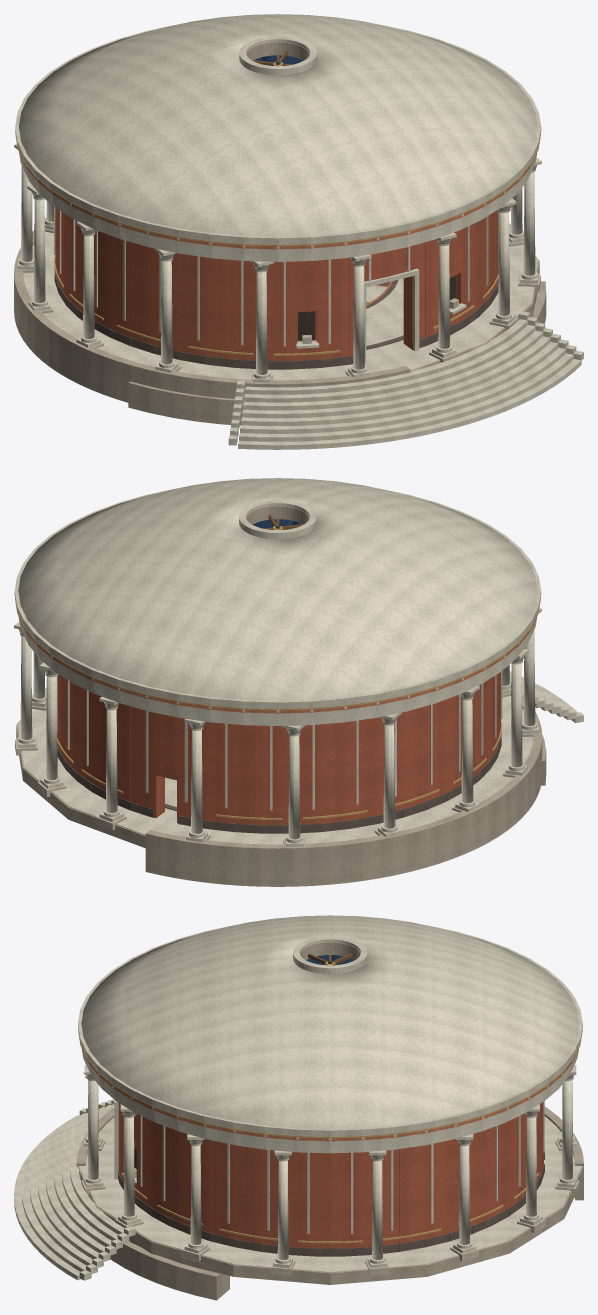
The model's file is coenatio.glb.
3 views of the same model, one above another, from view 1: azimuth 30°, elevation 25°; view 2: azimuth 150°, elevation 25°; view 3: azimuth 270°, elevation 25° (orthographic). The views are drawn at different scales.
Visible parts, largest first — view 1: FIXED_SHELL｜coenatio_warm_marble, STATIC｜coenatio_warm_marble, STATIC｜coenatio_red_plaster, STATIC｜coenatio_tuff, STATIC｜coenatio_dark_stone, STATIC｜coenatio_red_plaster_light, STATIC｜coenatio_bronze, STATIC｜coenatio_tuff_light, STATIC｜coenatio_ochre, STATIC｜coenatio_recess; view 2: FIXED_SHELL｜coenatio_warm_marble, STATIC｜coenatio_warm_marble, STATIC｜coenatio_red_plaster, STATIC｜coenatio_tuff, STATIC｜coenatio_dark_stone, STATIC｜coenatio_red_plaster_light, STATIC｜coenatio_bronze, STATIC｜coenatio_tuff_light, STATIC｜coenatio_ochre; view 3: FIXED_SHELL｜coenatio_warm_marble, STATIC｜coenatio_warm_marble, STATIC｜coenatio_red_plaster, STATIC｜coenatio_tuff, STATIC｜coenatio_dark_stone, STATIC｜coenatio_red_plaster_light, STATIC｜coenatio_tuff_light, STATIC｜coenatio_bronze, STATIC｜coenatio_ochre.
Part boxes in pixels (x1,y1,x2,y2): FIXED_SHELL｜coenatio_warm_marble: [19, 14, 537, 236]; STATIC｜coenatio_warm_marble: [14, 24, 583, 449]; STATIC｜coenatio_red_plaster: [55, 208, 498, 360]; STATIC｜coenatio_tuff: [14, 42, 546, 425]; STATIC｜coenatio_dark_stone: [54, 269, 498, 369]; STATIC｜coenatio_red_plaster_light: [19, 153, 536, 305]; STATIC｜coenatio_bronze: [15, 62, 540, 267]; STATIC｜coenatio_tuff_light: [23, 228, 540, 380]; STATIC｜coenatio_ochre: [54, 257, 498, 355]; STATIC｜coenatio_recess: [298, 275, 456, 340]; FIXED_SHELL｜coenatio_warm_marble: [18, 478, 537, 700]; STATIC｜coenatio_warm_marble: [14, 489, 583, 846]; STATIC｜coenatio_red_plaster: [57, 672, 500, 825]; STATIC｜coenatio_tuff: [16, 506, 546, 886]; STATIC｜coenatio_dark_stone: [57, 733, 501, 833]; STATIC｜coenatio_red_plaster_light: [19, 617, 536, 713]; STATIC｜coenatio_bronze: [15, 526, 540, 709]; STATIC｜coenatio_tuff_light: [15, 693, 532, 844]; STATIC｜coenatio_ochre: [57, 722, 502, 819]; FIXED_SHELL｜coenatio_warm_marble: [81, 915, 579, 1128]; STATIC｜coenatio_warm_marble: [14, 925, 582, 1280]; STATIC｜coenatio_red_plaster: [118, 1102, 543, 1248]; STATIC｜coenatio_tuff: [76, 942, 583, 1300]; STATIC｜coenatio_dark_stone: [118, 1152, 544, 1256]; STATIC｜coenatio_red_plaster_light: [82, 1049, 578, 1141]; STATIC｜coenatio_tuff_light: [81, 1140, 579, 1275]; STATIC｜coenatio_bronze: [78, 961, 582, 1137]; STATIC｜coenatio_ochre: [121, 1172, 539, 1243].
Bounding box in the file's own units: 35.53 × 19.38 × 39.96.
Materials: 15 (15 with a texture image).
